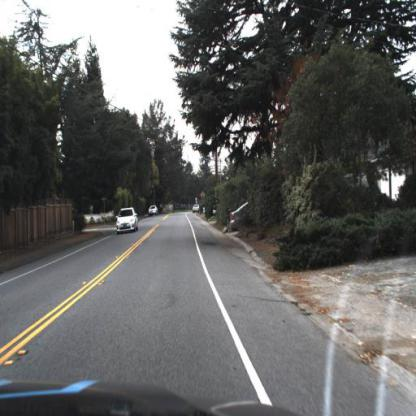car: (225, 200, 256, 231), (115, 206, 139, 235), (148, 204, 160, 216), (192, 201, 202, 215)
